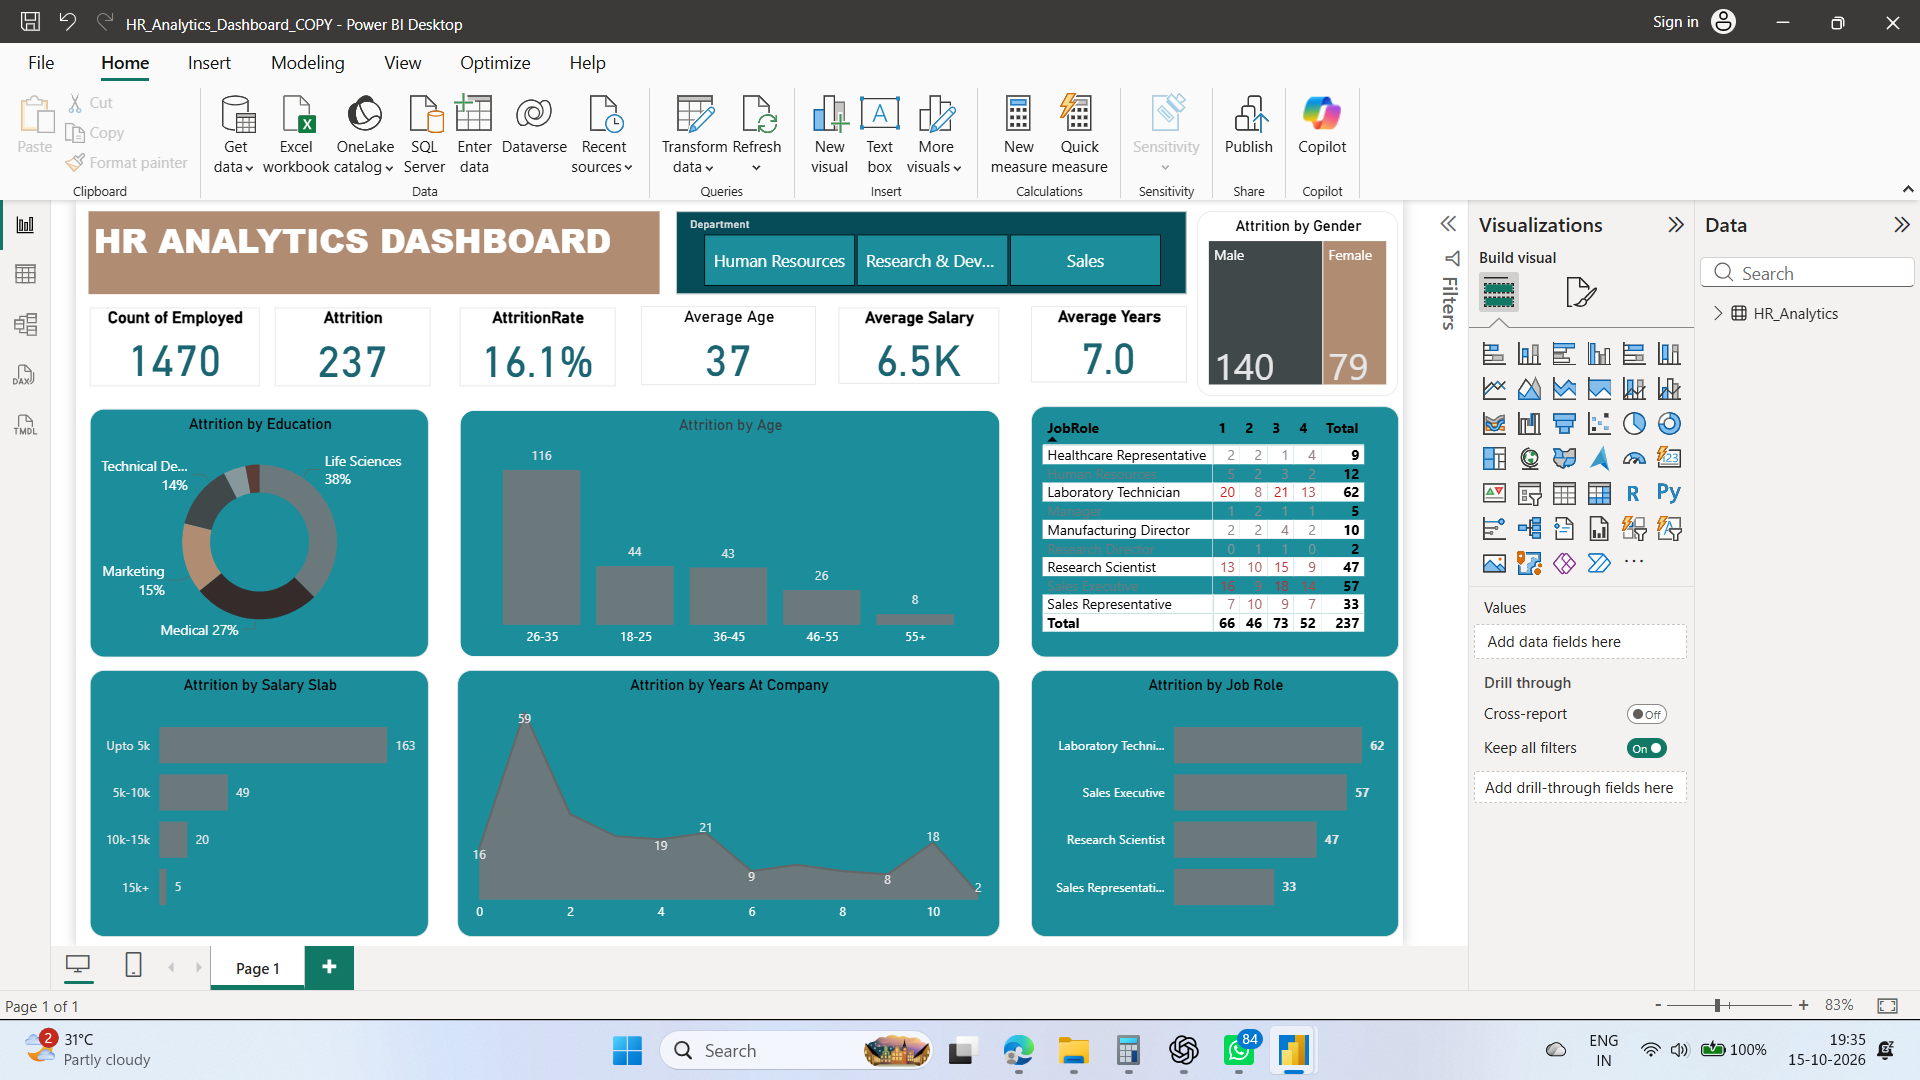

This screenshot's page, from the dashboard's own definition file:
{"tool":"powerbi","page":{"name":"Page 1","canvas":[1280,720],"ordinal":0},"visuals":[{"type":"card","title":"Count of Employed","fields":{"Values":["CountNonNull(HR_Analytics.EmpID)"]},"box":[13.8,103.8,150,76.2],"z":0},{"type":"card","title":"Attrition","fields":{"Values":["Sum(HR_Analytics.AttritionCount)"]},"box":[191.2,103.8,150,76.2],"z":1000},{"type":"card","title":"AttritionRate","fields":{"Values":["HR_Analytics.AttritionRate"]},"box":[370,103.8,150,76.2],"z":2000},{"type":"card","title":"Average Age","fields":{"Values":["Avg(HR_Analytics.Age)"]},"box":[545,102.5,168.8,76.2],"z":3000},{"type":"card","title":"Average  Salary","fields":{"Values":["Avg(HR_Analytics.MonthlyIncome)"]},"box":[736.2,103.8,155,73.8],"z":4000},{"type":"card","title":"Average Years","fields":{"Values":["Avg(HR_Analytics.YearsAtCompany)"]},"box":[921.2,102.5,150,73.8],"z":5000},{"type":"donutChart","title":"Attrition by Education","fields":{"Category":["HR_Analytics.EducationField"],"Y":["Sum(HR_Analytics.AttritionCount)"]},"box":[13.8,201.2,327.5,240],"z":6000},{"type":"columnChart","title":"Attrition by Age","fields":{"Category":["HR_Analytics.AgeGroup"],"Y":["Sum(HR_Analytics.AttritionCount)"]},"box":[370,202.5,521.2,238.8],"z":7000},{"type":"pivotTable","fields":{"Rows":["HR_Analytics.JobRole"],"Columns":["HR_Analytics.JobSatisfaction"],"Values":["Sum(HR_Analytics.AttritionCount)"]},"box":[921.2,198.8,355,242.5],"z":8000},{"type":"barChart","title":"Attrition by Salary Slab","fields":{"Category":["HR_Analytics.SalarySlab"],"Y":["Sum(HR_Analytics.AttritionCount)"]},"box":[13.8,453.8,327.5,257.5],"z":9000},{"type":"barChart","title":"Attrition by Job Role","fields":{"Category":["HR_Analytics.JobRole"],"Y":["Sum(HR_Analytics.AttritionCount)"]},"box":[921.2,453.8,355,257.5],"z":10000},{"type":"areaChart","title":"Attrition by Years At Company","fields":{"Category":["HR_Analytics.YearsAtCompany"],"Y":["Sum(HR_Analytics.AttritionCount)"]},"box":[367.5,453.8,523.8,257.5],"z":11000},{"type":"treemap","title":"Attrition by Gender","fields":{"Group":["HR_Analytics.Gender"],"Values":["Sum(HR_Analytics.AttritionCount)"]},"box":[1082.5,11.2,193.8,178.8],"z":12000},{"type":"slicer","fields":{"Values":["HR_Analytics.Department"]},"box":[578.8,11.2,493,80],"z":13000},{"type":"textbox","box":[12.5,11.2,551.2,80],"z":14000}]}

Visuals, with their boxes on the page's 1280x720 design canvas (x1, y1, x2, y2). These are canvas units, not pixel positions in the 1920x1080 screenshot, which may show the page scaled, cropped or inside an application window:
"Count of Employed" card: box=[14, 104, 164, 180]
"Attrition" card: box=[191, 104, 341, 180]
"AttritionRate" card: box=[370, 104, 520, 180]
"Average Age" card: box=[545, 102, 714, 179]
"Average  Salary" card: box=[736, 104, 891, 178]
"Average Years" card: box=[921, 102, 1071, 176]
"Attrition by Education" donutChart: box=[14, 201, 341, 441]
"Attrition by Age" columnChart: box=[370, 202, 891, 441]
pivotTable - HR_Analytics.JobRole x HR_Analytics.JobSatisfaction: box=[921, 199, 1276, 441]
"Attrition by Salary Slab" barChart: box=[14, 454, 341, 711]
"Attrition by Job Role" barChart: box=[921, 454, 1276, 711]
"Attrition by Years At Company" areaChart: box=[368, 454, 891, 711]
"Attrition by Gender" treemap: box=[1082, 11, 1276, 190]
slicer - HR_Analytics.Department: box=[579, 11, 1072, 91]
textbox: box=[12, 11, 564, 91]
